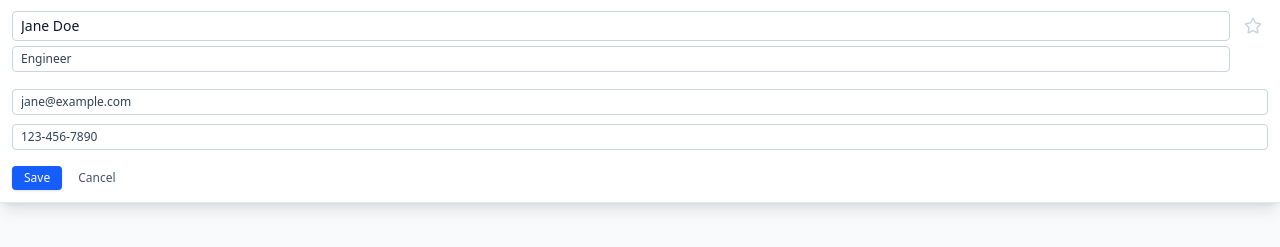
EditablePersonCard › validates input before saving
Clear the 1st field showing "Jane Doe". click: (621, 26)
box: [12,11,1230,41]
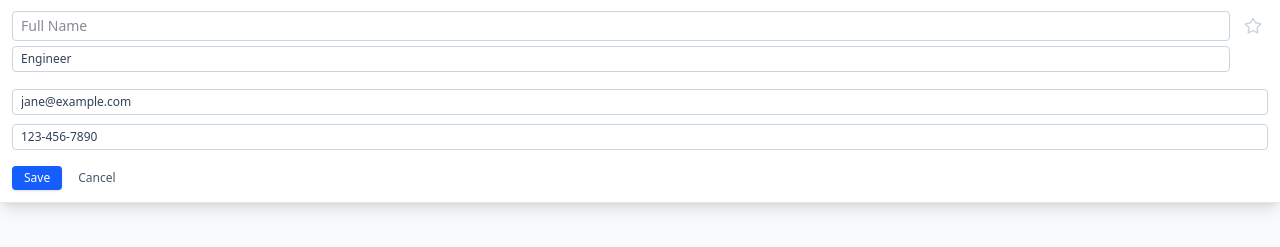
Click the button "Save". click: (37, 178)
box: [12,166,62,190]
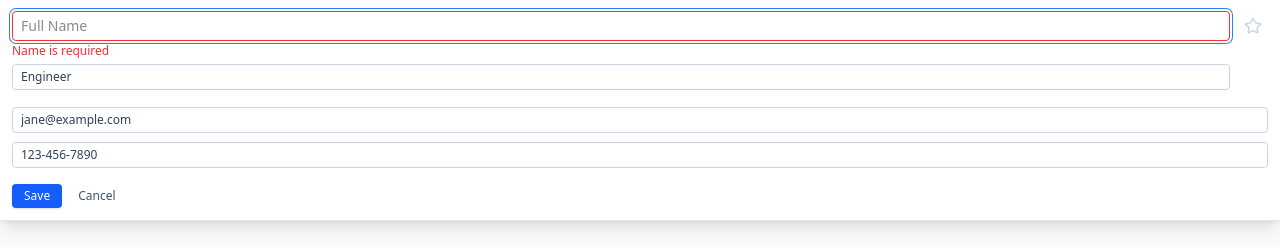
Result: the text "Name is required" is shown at [12,42,109,59]
